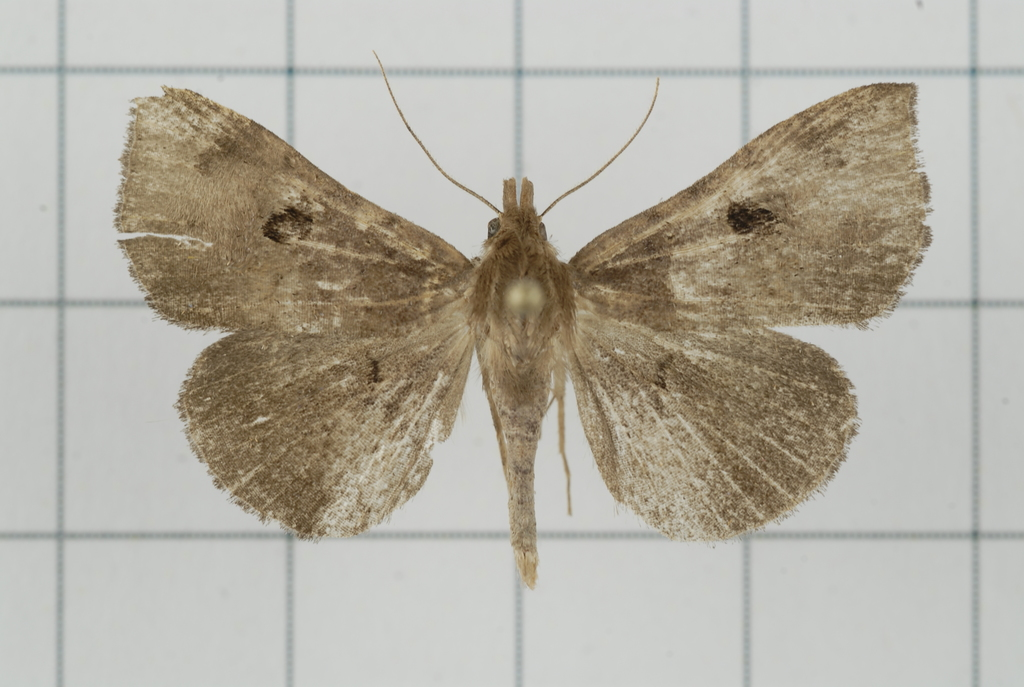Butterfly: (103, 40, 954, 601)
